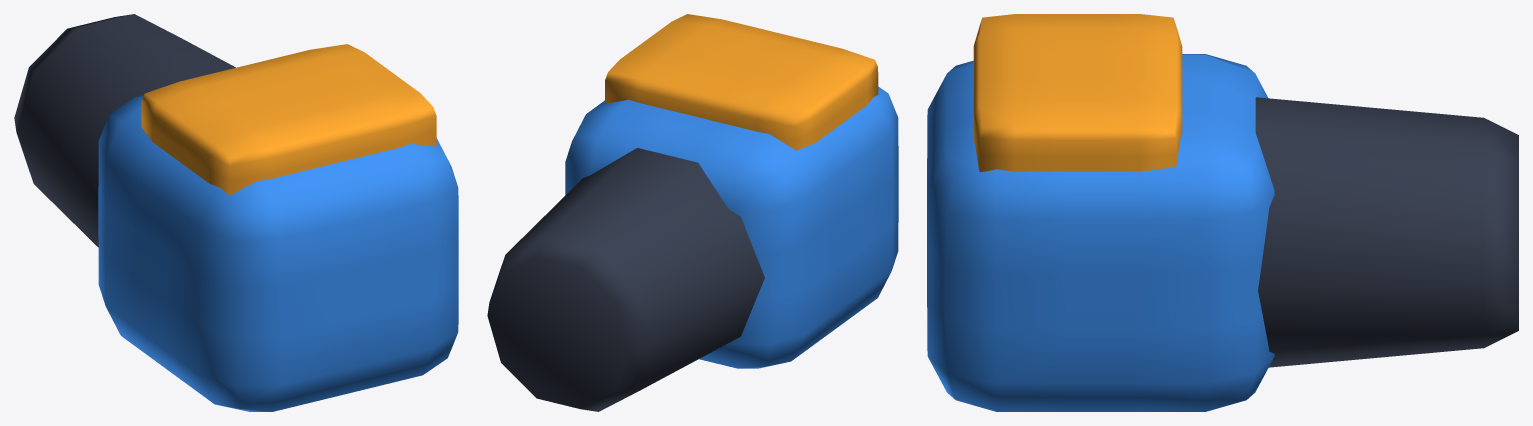
File: glove_shock.obj
3 renders of one model, left to right at view 1: azimuth 30°, elevation 25°; view 2: azimuth 150°, elevation 25°; view 3: azimuth 270°, elevation 25°, orthographic. The views are drawn at different scales.
Size of the model in its own units: 0.28 by 0.29 by 0.51.
